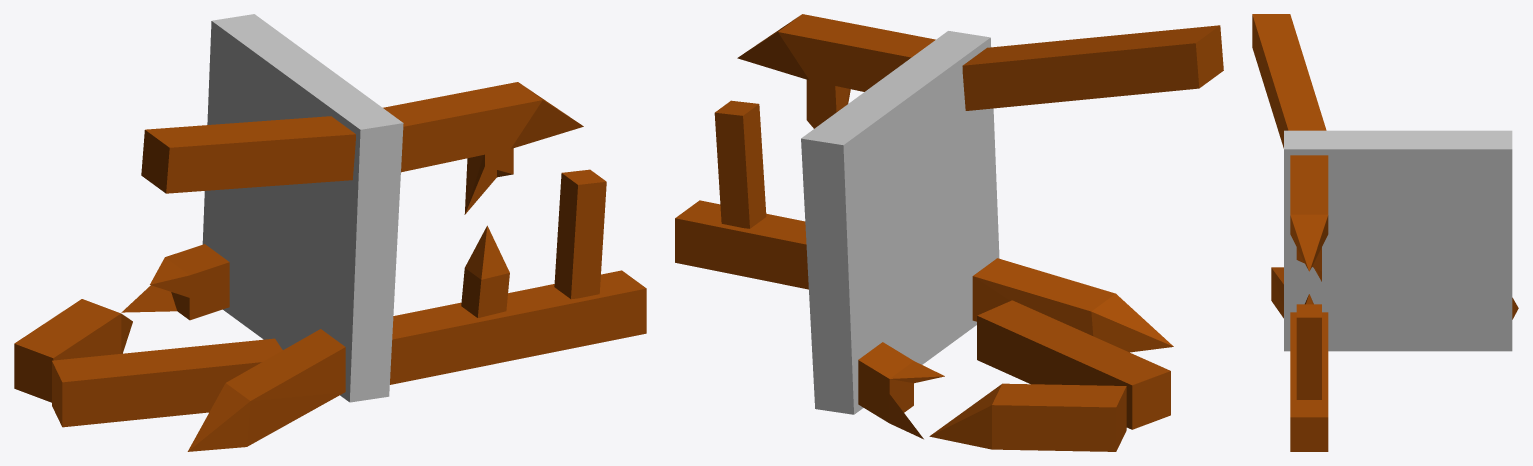
Rendered from smashedchair.obj.
3 renders of one model, left to right at view 1: azimuth 30°, elevation 25°; view 2: azimuth 150°, elevation 25°; view 3: azimuth 270°, elevation 25°, orthographic. The views are drawn at different scales.
Visible parts, largest first — view 1: smashedchair_back; view 2: smashedchair_back; view 3: smashedchair_back.
Part boxes in pixels (left/top/right/bottom): smashedchair_back: left=14, top=14, right=646, bottom=451; smashedchair_back: left=675, top=14, right=1223, bottom=451; smashedchair_back: left=1252, top=14, right=1518, bottom=451.
Size of the model in its own units: 1.48 by 0.88 by 0.84.
